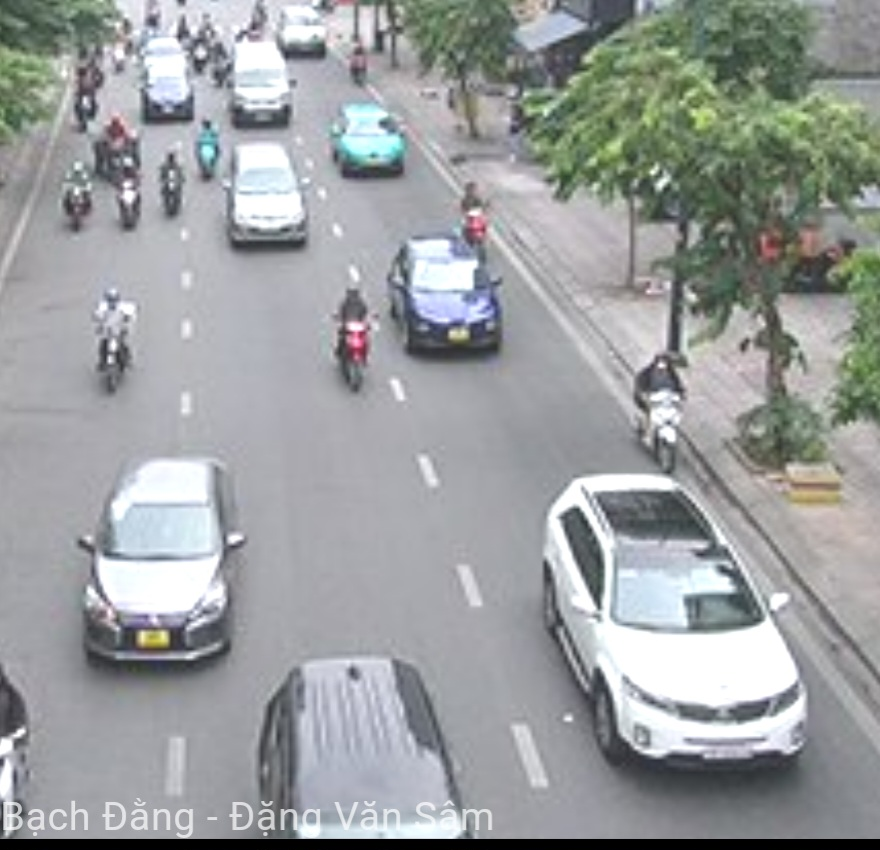car: (544, 471, 811, 770), (256, 663, 472, 836), (78, 454, 231, 671), (386, 231, 504, 357), (221, 142, 309, 251), (331, 104, 407, 176), (230, 43, 292, 126), (144, 73, 195, 121)
